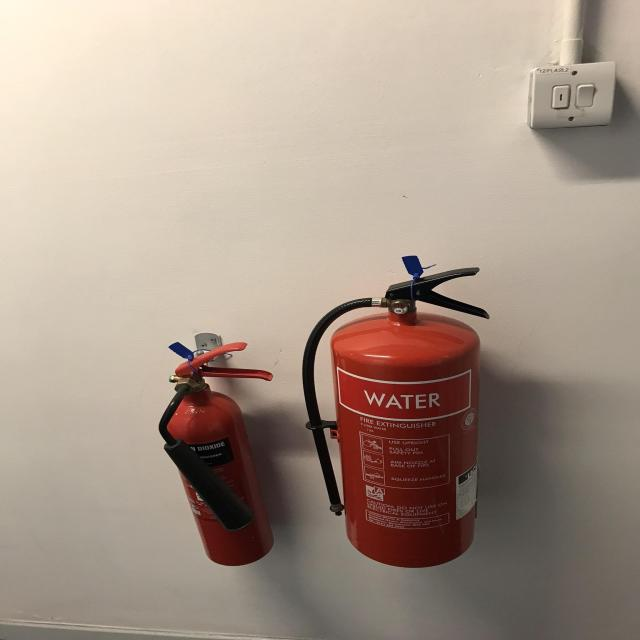fire_extinguisher: (294, 265, 494, 569), (152, 339, 277, 568)
